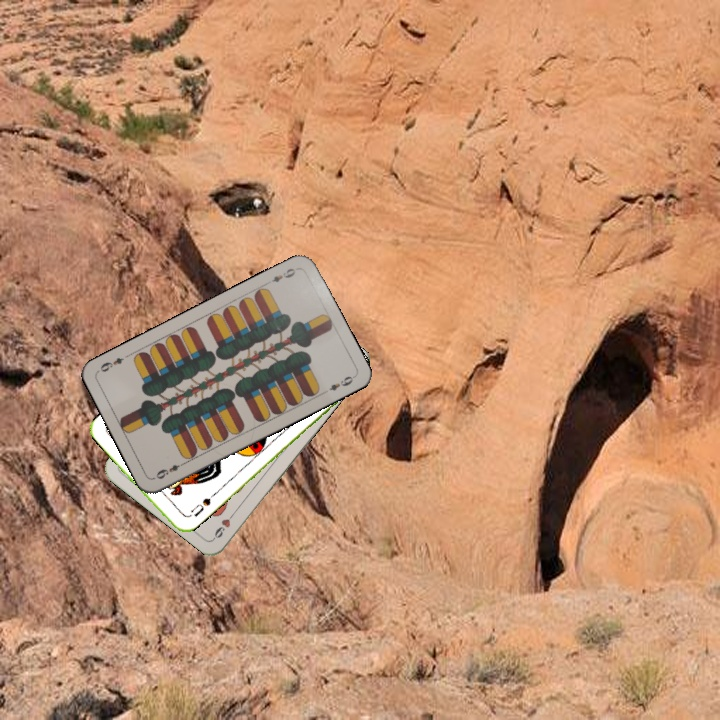E9: (262, 263, 300, 287), (152, 458, 188, 482)
H9: (209, 507, 239, 542)
SU: (187, 494, 213, 519)
